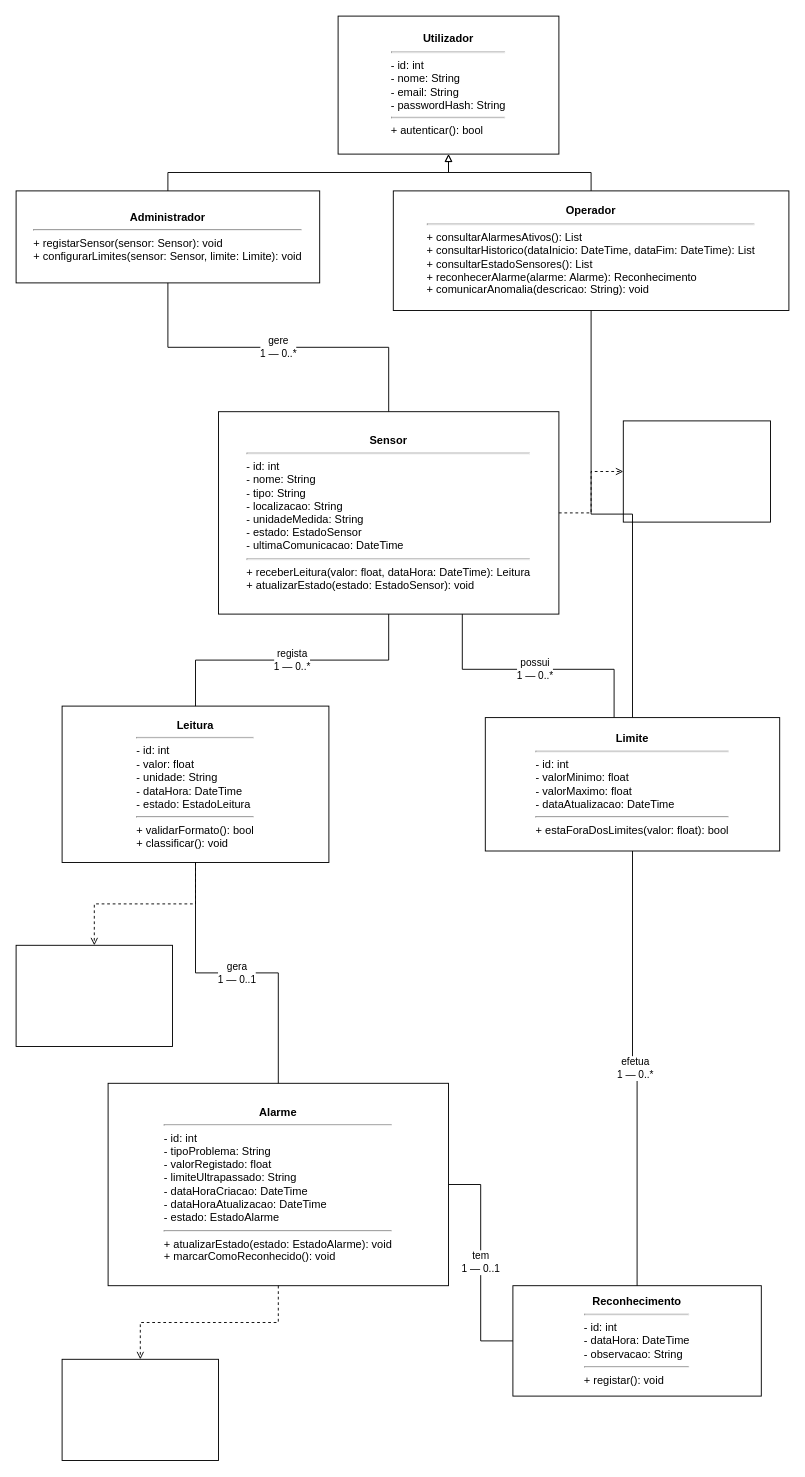
This 805x1477 diagram has some shape labels left out. The shapes that lost their labels are listed below. From the top down, each one's box as (x1, y1, x2, y2) in pixels, then its label:
(622, 420, 770, 522): <<enumeration>> EstadoSensor ATIVO INATIVO SEM_SINAL
(15, 944, 172, 1046): <<enumeration>> EstadoLeitura VALIDA INVALIDA SUSPEITA
(61, 1358, 218, 1460): <<enumeration>> EstadoAlarme ATIVO RECONHECIDO RESOLVIDO
